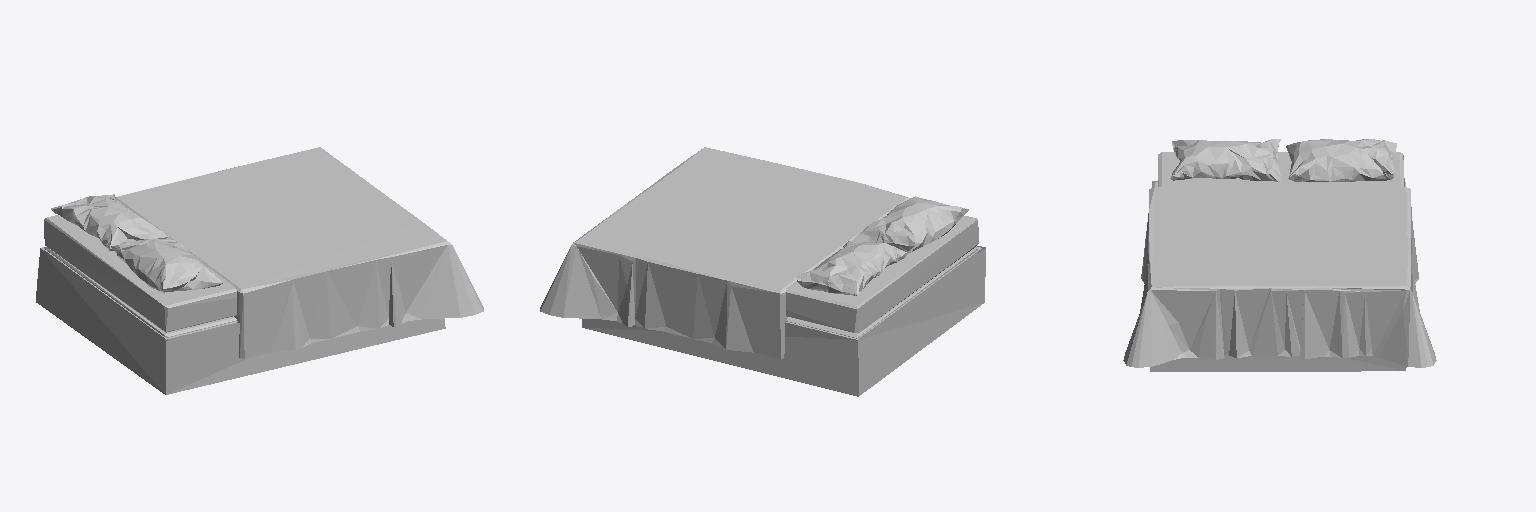
Rendered from bed.obj.
The picture shows the model from 3 angles: view 1: azimuth 30°, elevation 25°; view 2: azimuth 150°, elevation 25°; view 3: azimuth 270°, elevation 25°; orthographic projection.
Visible parts, largest first — view 1: bed; view 2: bed; view 3: bed.
Boxes of the visible parts, <box> form: bed: <box>36,147,483,394</box>; bed: <box>540,147,985,396</box>; bed: <box>1123,139,1436,371</box>.
Size of the model in its own units: 13.92 by 4.74 by 12.13.